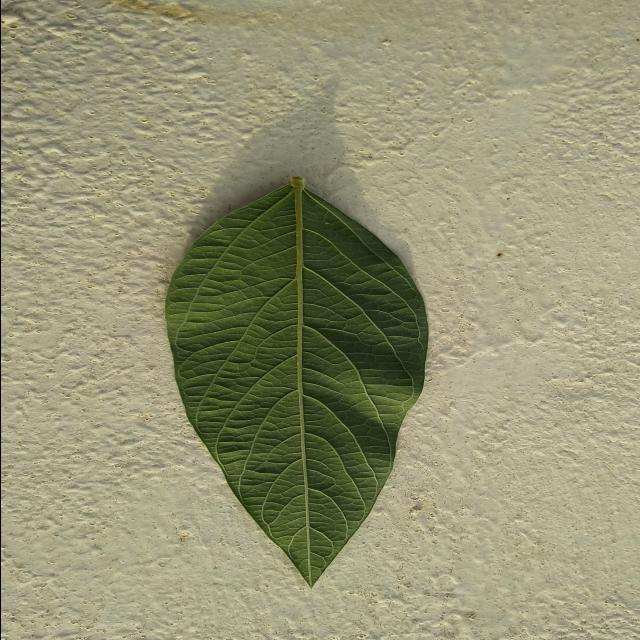leaf: (163, 174, 429, 588)
